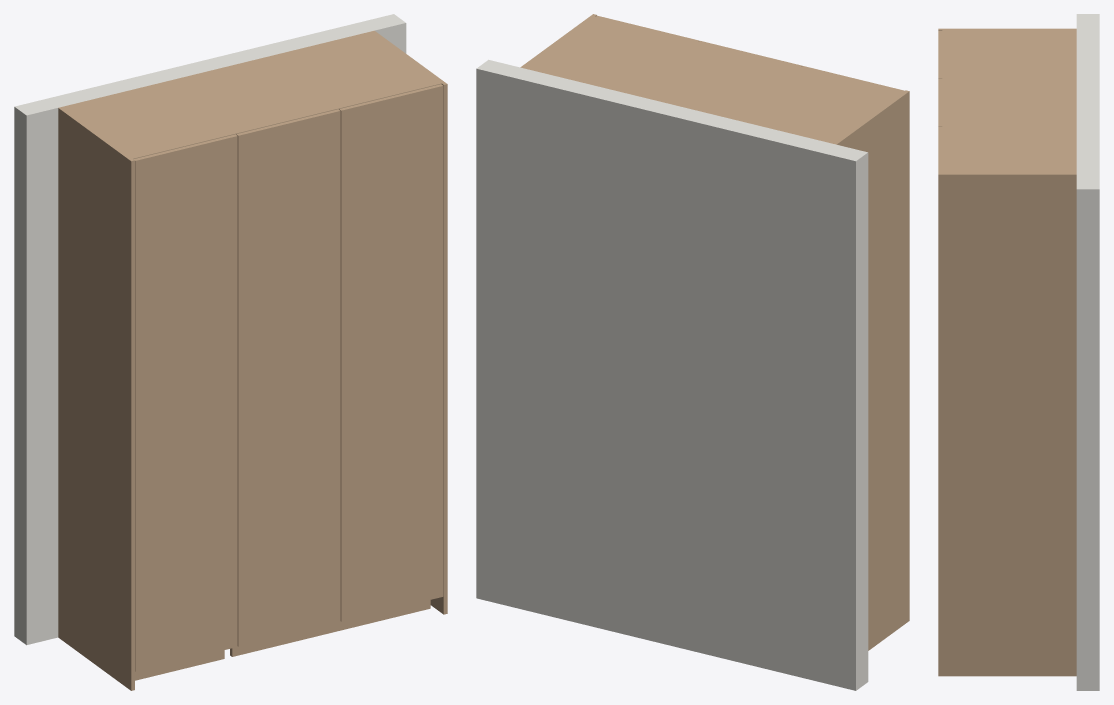
3 renders of one model, left to right at view 1: azimuth 30°, elevation 25°; view 2: azimuth 150°, elevation 25°; view 3: azimuth 270°, elevation 25°, orthographic. The views are drawn at different scales.
Visible parts, largest first — view 1: Unit 2: Door, left, Unit 2: Door, right, Unit 1: Door, End panel, left, Room: Back wall, Unit 2: Top, Unit 1: Top, End panel, right, Unit 2: Plinth, Unit 1: Plinth; view 2: Room: Back wall, End panel, left, Unit 2: Top, Unit 1: Top; view 3: End panel, right, Room: Back wall, Unit 2: Top, Unit 1: Top, End panel, left, Unit 1: Side, left, Unit 1: Side, right, Unit 2: Side, left, Unit 2: Side, right.
Boxes of the visible parts, x1=… form: Unit 2: Door, left: x1=236, y1=109, x2=340, y2=646; Unit 2: Door, right: x1=339, y1=84, x2=443, y2=621; Unit 1: Door: x1=134, y1=134, x2=237, y2=671; End panel, left: x1=58, y1=107, x2=134, y2=690; Room: Back wall: x1=14, y1=14, x2=406, y2=645; Unit 2: Top: x1=169, y1=32, x2=437, y2=133; Unit 1: Top: x1=66, y1=83, x2=231, y2=158; End panel, right: x1=371, y1=30, x2=447, y2=614; Unit 2: Plinth: x1=230, y1=600, x2=430, y2=656; Unit 1: Plinth: x1=135, y1=650, x2=224, y2=680; Room: Back wall: x1=476, y1=59, x2=868, y2=690; End panel, left: x1=833, y1=90, x2=909, y2=650; Unit 2: Top: x1=528, y1=17, x2=796, y2=117; Unit 1: Top: x1=734, y1=67, x2=899, y2=142; End panel, right: x1=938, y1=173, x2=1076, y2=676; Room: Back wall: x1=1076, y1=14, x2=1099, y2=690; Unit 2: Top: x1=942, y1=79, x2=1076, y2=171; Unit 1: Top: x1=942, y1=32, x2=1076, y2=76; End panel, left: x1=938, y1=28, x2=1076, y2=30; Unit 1: Side, left: x1=942, y1=30, x2=1076, y2=31; Unit 1: Side, right: x1=942, y1=76, x2=1076, y2=77; Unit 2: Side, left: x1=942, y1=78, x2=1076, y2=79; Unit 2: Side, right: x1=942, y1=171, x2=1076, y2=172.
Size of the model in its own units: 1.8 by 2.4 by 0.7.
